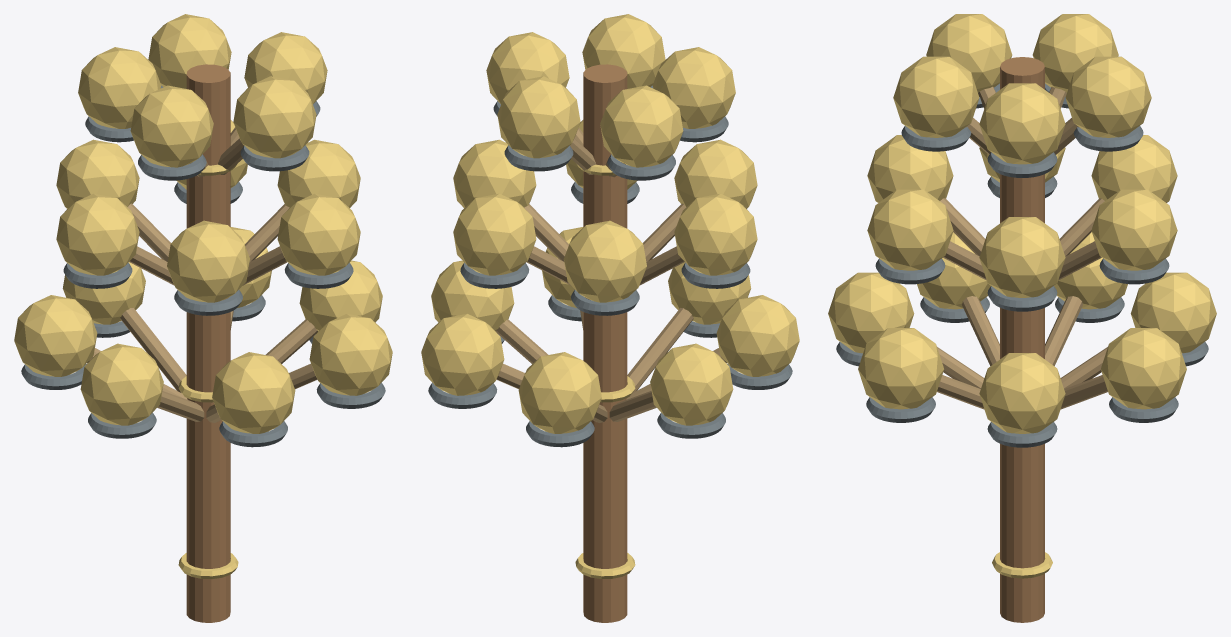
File: shinji_kagura_suzu.glb
The picture shows the model from 3 angles, left to right: view 1: azimuth 30°, elevation 25°; view 2: azimuth 150°, elevation 25°; view 3: azimuth 270°, elevation 25°; orthographic projection.
Parts seen in each view (by area): view 1: Kagura bell ceremony staff, Cast individual kagura bell.017, Cast individual kagura bell.004, Cast individual kagura bell.005, Cast individual kagura bell.016, Cast individual kagura bell.010, Cast individual kagura bell.006, Cast individual kagura bell.012, Cast individual kagura bell.003, Cast individual kagura bell.011, Cast individual kagura bell.015, Cast individual kagura bell.009 (+24 smaller); view 2: Kagura bell ceremony staff, Cast individual kagura bell.014, Cast individual kagura bell.003, Cast individual kagura bell.002, Cast individual kagura bell.015, Cast individual kagura bell.010, Cast individual kagura bell.001, Cast individual kagura bell.008, Cast individual kagura bell.004, Cast individual kagura bell.009, Cast individual kagura bell.016, Cast individual kagura bell.011 (+24 smaller); view 3: Kagura bell ceremony staff, Cast individual kagura bell.014, Cast individual kagura bell.017, Cast individual kagura bell.008, Cast individual kagura bell.012, Cast individual kagura bell.013, Cast individual kagura bell.001, Cast individual kagura bell.006, Cast individual kagura bell, Cast individual kagura bell.007, Cast individual kagura bell.002, Cast individual kagura bell.005 (+28 smaller).
Part boxes in pixels (x1,y1,x2,y2): Kagura bell ceremony staff: (186,64,230,622); Cast individual kagura bell.017: (233,76,316,158); Cast individual kagura bell.004: (80,343,163,425); Cast individual kagura bell.005: (212,352,295,433); Cast individual kagura bell.016: (130,85,213,167); Cast individual kagura bell.010: (56,193,139,275); Cast individual kagura bell.006: (309,313,392,395); Cast individual kagura bell.012: (277,193,360,275); Cast individual kagura bell.003: (14,295,97,376); Cast individual kagura bell.011: (167,220,249,302); Cast individual kagura bell.015: (78,47,161,128); Cast individual kagura bell.009: (56,139,139,208); Kagura bell ceremony staff: (583,64,627,622); Cast individual kagura bell.014: (497,76,580,158); Cast individual kagura bell.003: (650,343,733,425); Cast individual kagura bell.002: (518,352,601,433); Cast individual kagura bell.015: (600,85,683,167); Cast individual kagura bell.010: (674,193,757,275); Cast individual kagura bell.001: (421,313,504,395); Cast individual kagura bell.008: (453,193,536,275); Cast individual kagura bell.004: (716,295,799,376); Cast individual kagura bell.009: (564,220,646,302); Cast individual kagura bell.016: (652,47,735,128); Cast individual kagura bell.011: (674,139,757,208); Kagura bell ceremony staff: (1000,57,1044,622); Cast individual kagura bell.014: (1065,56,1151,137); Cast individual kagura bell.017: (893,56,979,137); Cast individual kagura bell.008: (1091,189,1177,270); Cast individual kagura bell.012: (867,189,953,270); Cast individual kagura bell.013: (979,83,1065,164); Cast individual kagura bell.001: (1101,328,1186,409); Cast individual kagura bell.006: (858,328,943,409); Cast individual kagura bell: (979,353,1065,433); Cast individual kagura bell.007: (979,217,1065,297); Cast individual kagura bell.002: (1130,272,1216,353); Cast individual kagura bell.005: (828,272,914,353).
Size of the model in its own units: 1.18 by 1.95 by 1.21.
